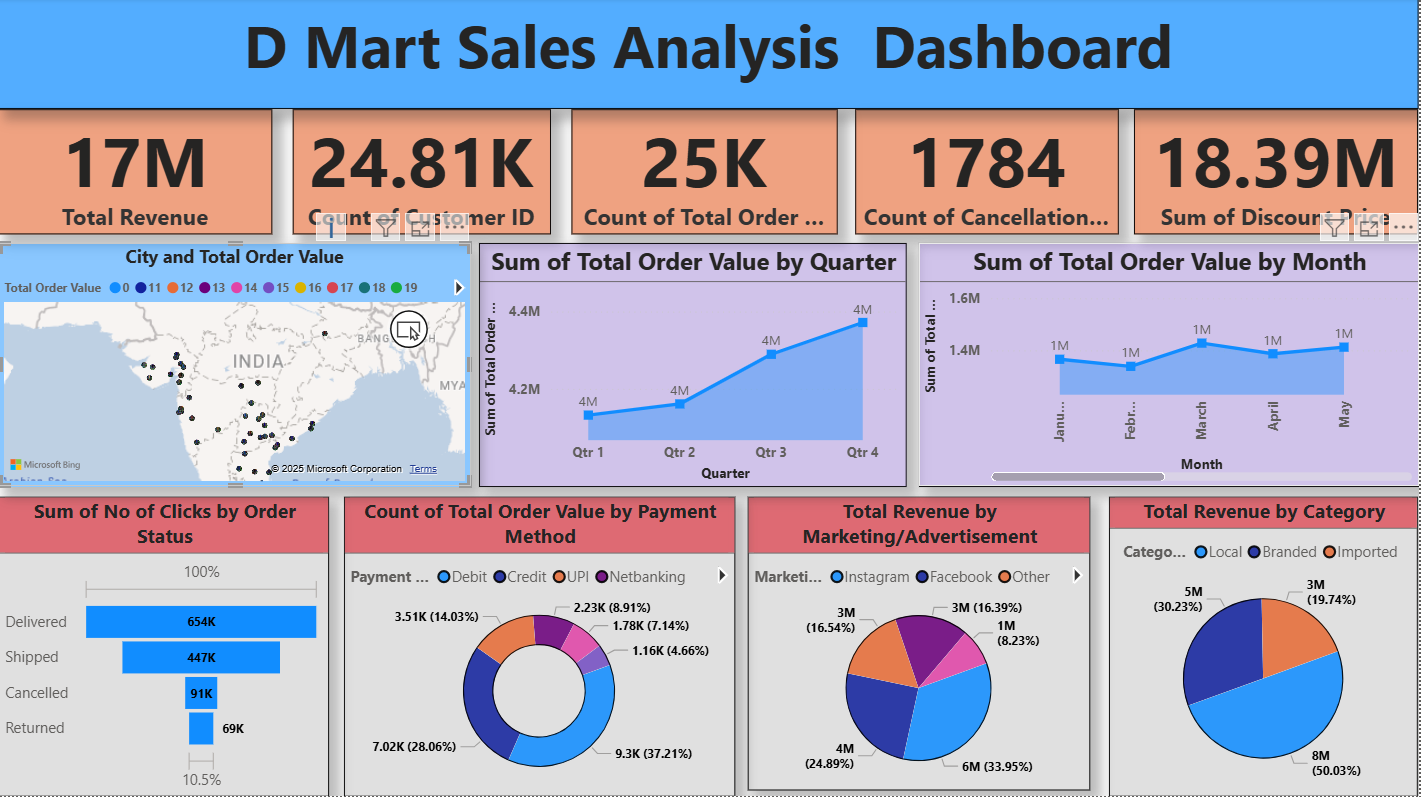

The dashboard page shown, as its layout file describes it:
{"tool":"powerbi","page":{"name":"Page 1","canvas":[1280,720],"ordinal":0},"visuals":[{"type":"card","fields":{"Values":["CountNonNull(Dmart+Dataset_Tableau.Cancellation Date)"]},"box":[772.5,100,237.5,112.5],"z":0},{"type":"card","fields":{"Values":["CountNonNull(Dmart+Dataset_Tableau.Total Order Value)"]},"box":[516.2,100,240,112.5],"z":1000},{"type":"card","fields":{"Values":["Sum(Dmart+Dataset_Tableau.Discount Price)"]},"box":[1023.8,100,256.2,112.5],"z":2000},{"type":"card","fields":{"Values":["Count(Dmart+Dataset_Tableau.Customer ID)"]},"box":[265,100,232.5,112.5],"z":3000},{"type":"card","fields":{"Values":["Dmart+Dataset_Tableau.Measure"]},"box":[0,100,246.2,112.5],"z":4000},{"type":"textbox","box":[0,0,1280,100],"z":5000},{"type":"pieChart","fields":{"Category":["Dmart+Dataset_Tableau.Category"],"Y":["Dmart+Dataset_Tableau.Total Revenue"]},"box":[1001.2,450,278.8,270],"z":6000},{"type":"pieChart","fields":{"Category":["Dmart+Dataset_Tableau.Marketing/Advertisement"],"Y":["Dmart+Dataset_Tableau.Total Revenue"]},"box":[675,450,308.8,265],"z":7000},{"type":"donutChart","fields":{"Category":["Dmart+Dataset_Tableau.Payment Method"],"Y":["CountNonNull(Dmart+Dataset_Tableau.Total Order Value)"]},"box":[311.2,450,352.5,270],"z":8000},{"type":"funnel","fields":{"Y":["Sum(Dmart+Dataset_Tableau.No of Clicks)"],"Category":["Dmart+Dataset_Tableau.Order Status"]},"box":[0,450,297.5,270],"z":9000},{"type":"stackedAreaChart","fields":{"Y":["Sum(Dmart+Dataset_Tableau.Total Order Value)"],"Category":["Dmart+Dataset_Tableau.Order Date.Variation.Date Hierarchy.Quarter"]},"box":[432.9,221.3,355.8,218.9],"z":11000},{"type":"areaChart","fields":{"Category":["Dmart+Dataset_Tableau.Month"],"Y":["Sum(Dmart+Dataset_Tableau.Total Order Value)"]},"box":[802.2,221.3,478.1,218.9],"z":12000},{"type":"map","fields":{"Size":["Dmart+Dataset_Tableau.Total Revenue"],"Category":["Dmart+Dataset_Tableau.City"]},"box":[0,221.3,423.1,220.1],"z":12001}]}

Visuals, with their boxes in screenshot pixels (x1, y1, x2, y2):
card - CountNonNull(Dmart+Dataset_Tableau.Cancellation Date): 858/102/1126/229
card - CountNonNull(Dmart+Dataset_Tableau.Total Order Value): 568/102/840/229
card - Sum(Dmart+Dataset_Tableau.Discount Price): 1142/102/1420/229
card - Count(Dmart+Dataset_Tableau.Customer ID): 285/102/547/229
card - Dmart+Dataset_Tableau.Measure: 0/102/263/229
textbox: 0/0/1420/102
pieChart - Dmart+Dataset_Tableau.Category x Dmart+Dataset_Tableau.Total Revenue: 1116/497/1420/796
pieChart - Dmart+Dataset_Tableau.Marketing/Advertisement x Dmart+Dataset_Tableau.Total Revenue: 748/497/1097/796
donutChart - Dmart+Dataset_Tableau.Payment Method x CountNonNull(Dmart+Dataset_Tableau.Total Order Value): 337/497/735/796
funnel - Sum(Dmart+Dataset_Tableau.No of Clicks) x Dmart+Dataset_Tableau.Order Status: 0/497/321/796
stackedAreaChart - Sum(Dmart+Dataset_Tableau.Total Order Value) x Dmart+Dataset_Tableau.Order Date.Variation.Date Hierarchy.Quarter: 474/239/876/486
areaChart - Dmart+Dataset_Tableau.Month x Sum(Dmart+Dataset_Tableau.Total Order Value): 892/239/1420/486
map - Dmart+Dataset_Tableau.Total Revenue x Dmart+Dataset_Tableau.City: 0/239/463/488
